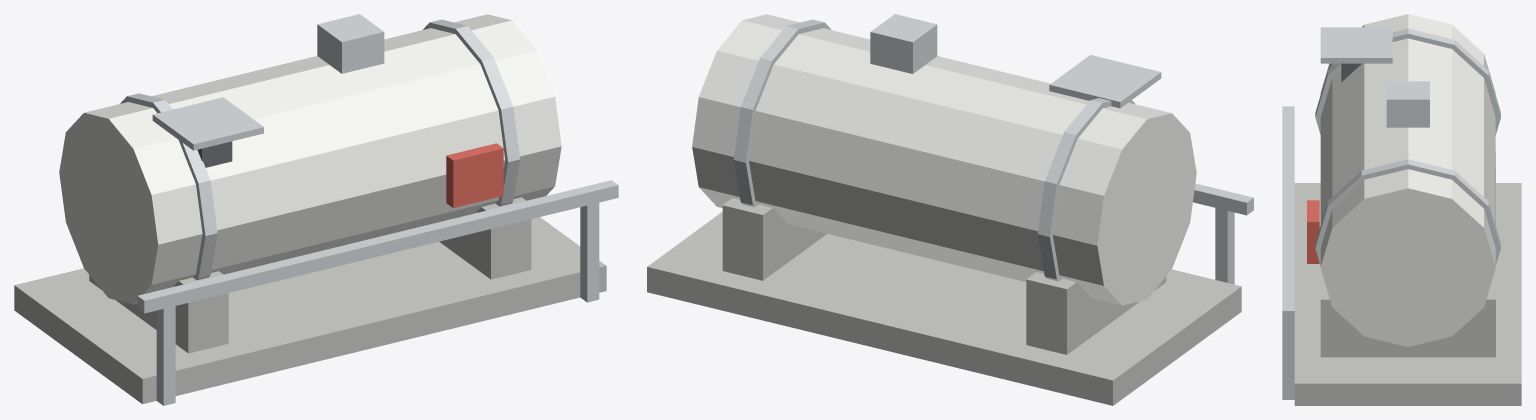
File: radio-telescope-array-and-field-station-bulk-fuel-tank-d2fafc4f__37633.glb
The picture shows the model from 3 angles, left to right: view 1: azimuth 30°, elevation 25°; view 2: azimuth 150°, elevation 25°; view 3: azimuth 270°, elevation 25°; orthographic projection. The views are drawn at different scales.
Parts seen in each view (by area): view 1: bulk-fuel-tank; view 2: bulk-fuel-tank; view 3: bulk-fuel-tank.
Part boxes in pixels (x1,y1,x2,y2): bulk-fuel-tank: (14,14,618,405); bulk-fuel-tank: (647,14,1253,405); bulk-fuel-tank: (1282,14,1521,405).
Size of the model in its own units: 4.7 by 2.49 by 2.32.
